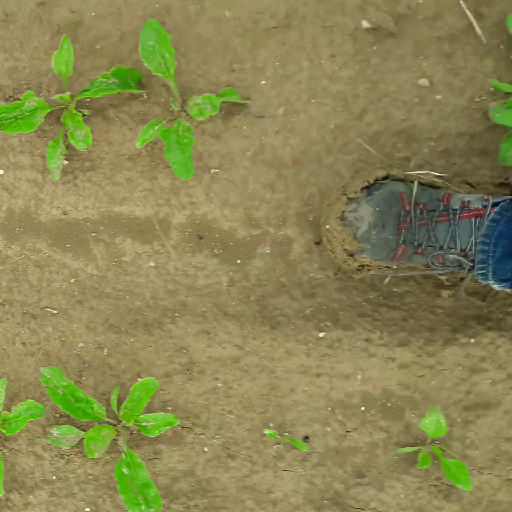sugarbeet: (1, 29, 152, 190), (39, 359, 182, 512), (132, 15, 257, 183), (394, 401, 476, 495), (1, 365, 47, 504), (258, 426, 311, 457)
